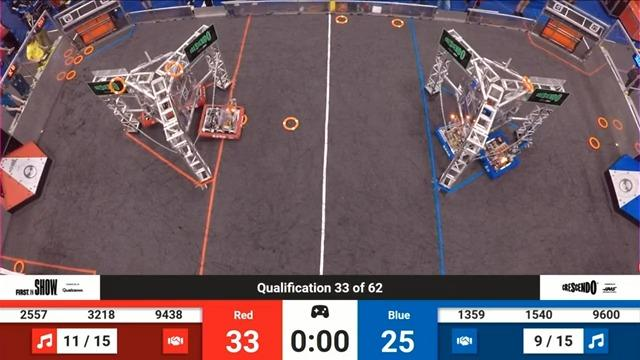robot: (472, 121, 536, 189), (137, 58, 176, 139), (440, 100, 487, 165), (171, 51, 216, 112), (197, 104, 251, 147), (465, 46, 504, 99)
